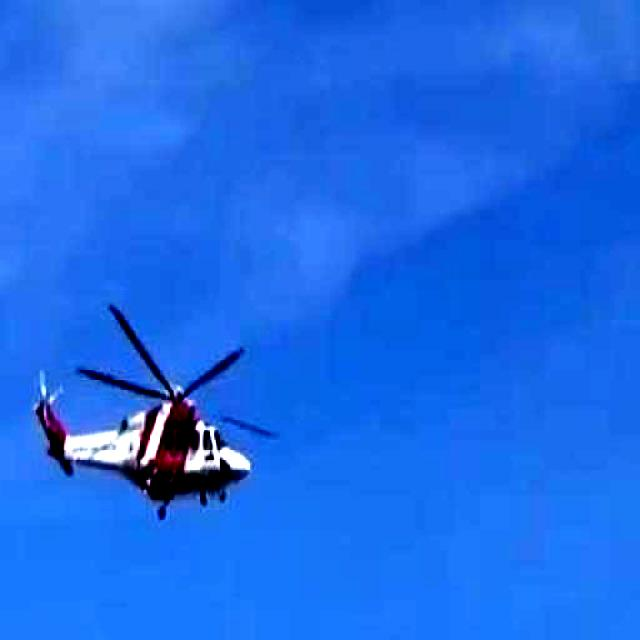drone: (24, 294, 304, 530)
